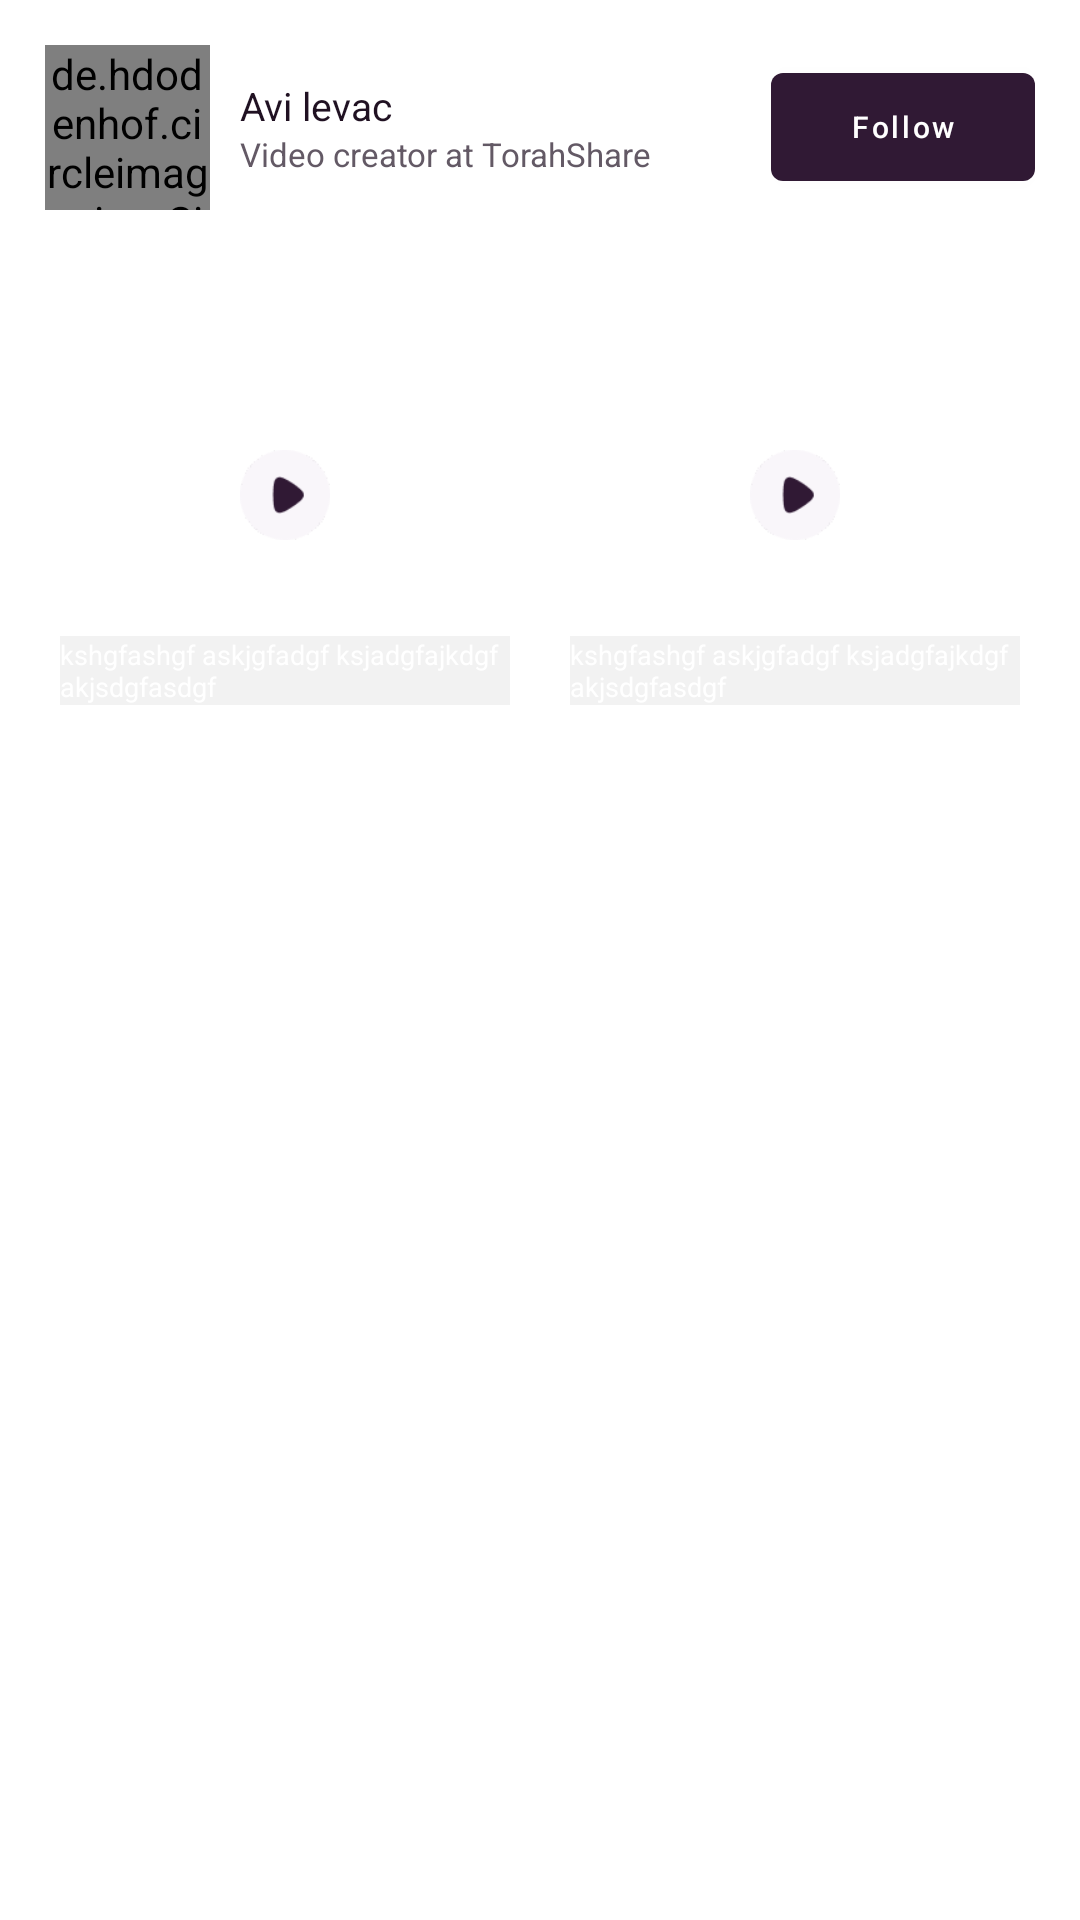

Named icons in this screenshot (1080*1920) and their bounding boxes, (x1, y1, x2, y2):
play: (272, 476, 304, 514), (782, 476, 814, 514)
